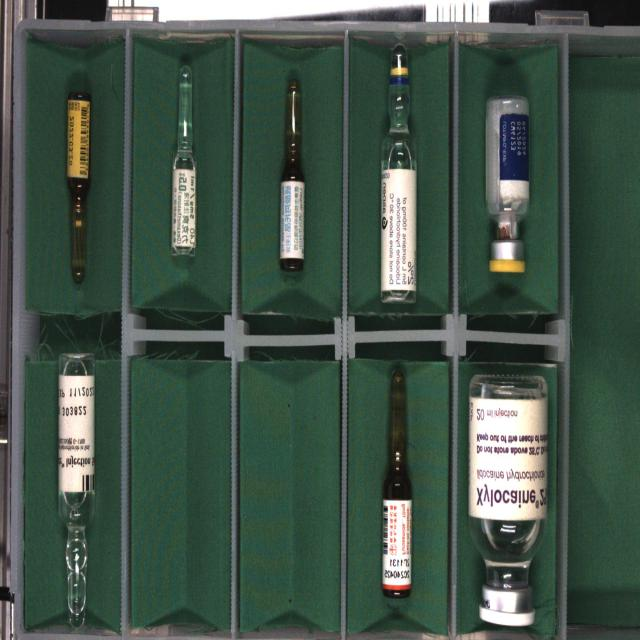Vials: (468, 375, 548, 626), (485, 96, 529, 274)
